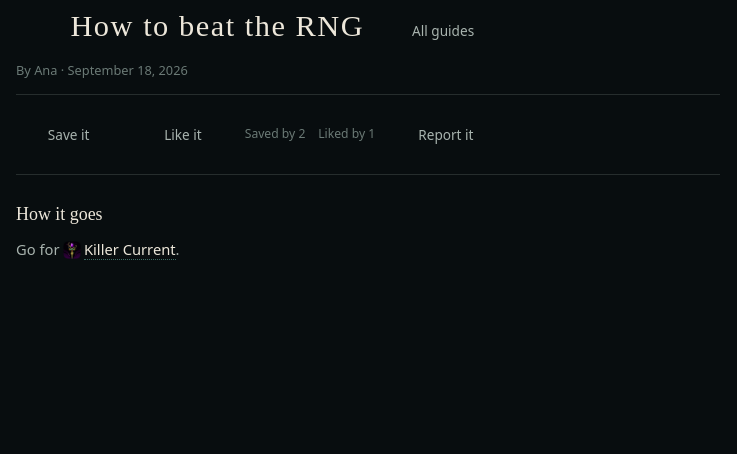
Test: what a reader can do › sends a report with what was said, and says nothing about it afterwards
Click the button "Report it".
click(446, 134)  # box x1=386 y1=107 x2=505 y2=162
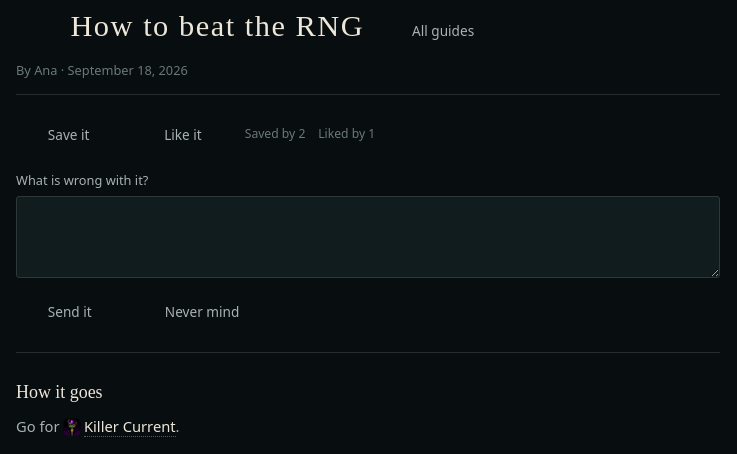
Type "It is a wall of adverts." into the text box with id "guide-reason".
click(368, 237); type("It is a wall of adverts.")  # box x1=16 y1=196 x2=720 y2=278
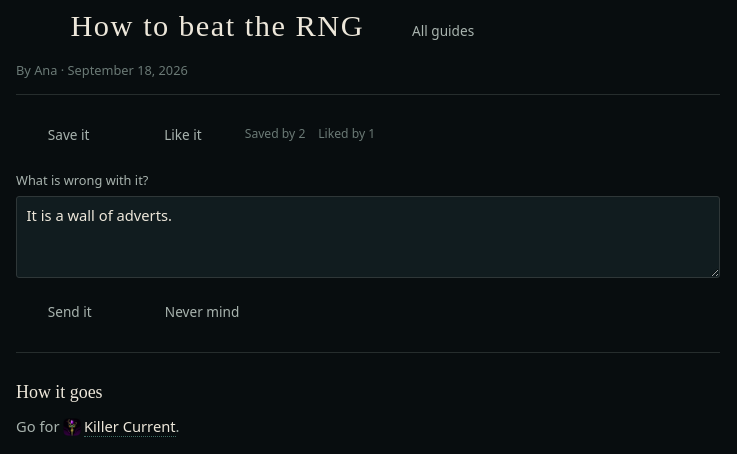
Click the button "Send it".
click(70, 311)  # box x1=16 y1=284 x2=123 y2=339
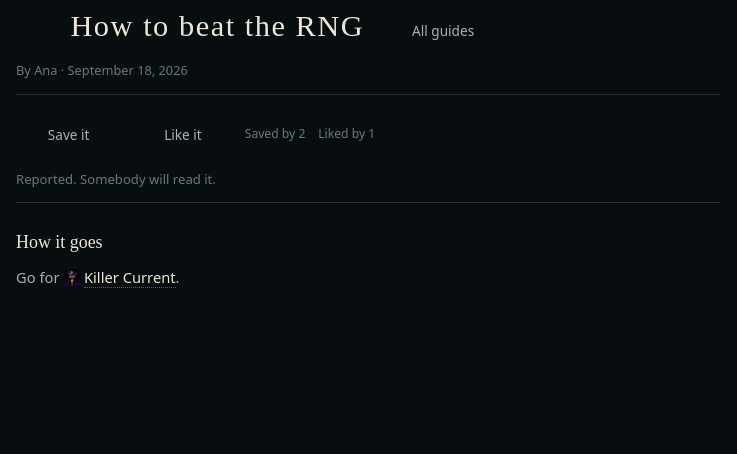
Expected: the text "Reported. Somebody will read it." is shown, x1=16 y1=170 x2=216 y2=188
